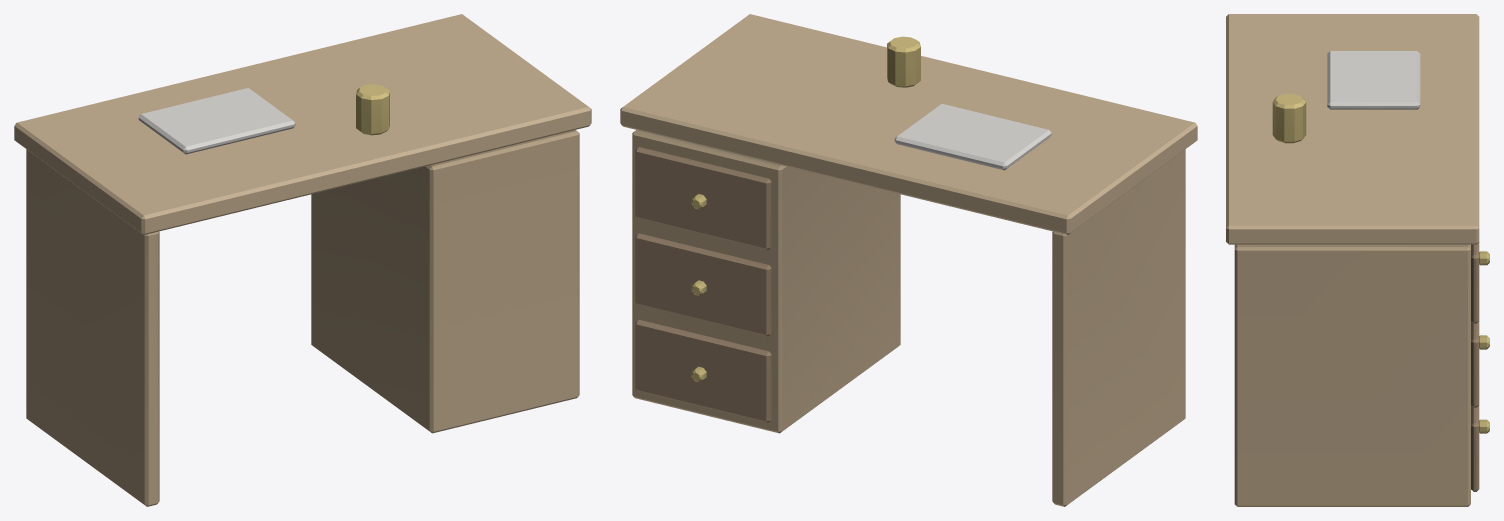
File: furn_desk__oak.glb
The picture shows the model from 3 angles, left to right: view 1: azimuth 30°, elevation 25°; view 2: azimuth 150°, elevation 25°; view 3: azimuth 270°, elevation 25°; orthographic projection. The views are drawn at different scales.
Size of the model in its own units: 1.2 by 0.855 by 0.625.
